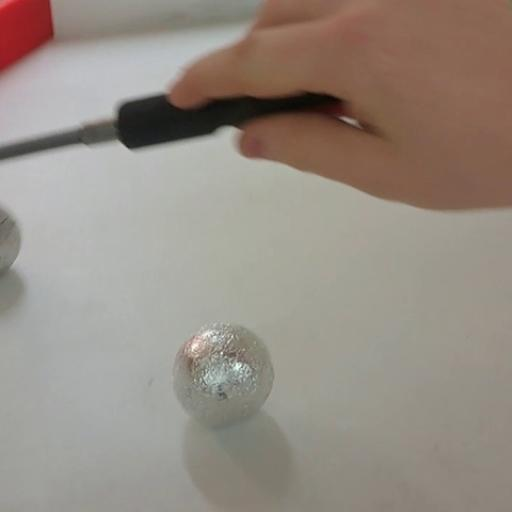alive: (169, 321, 278, 428), (1, 204, 21, 276)
